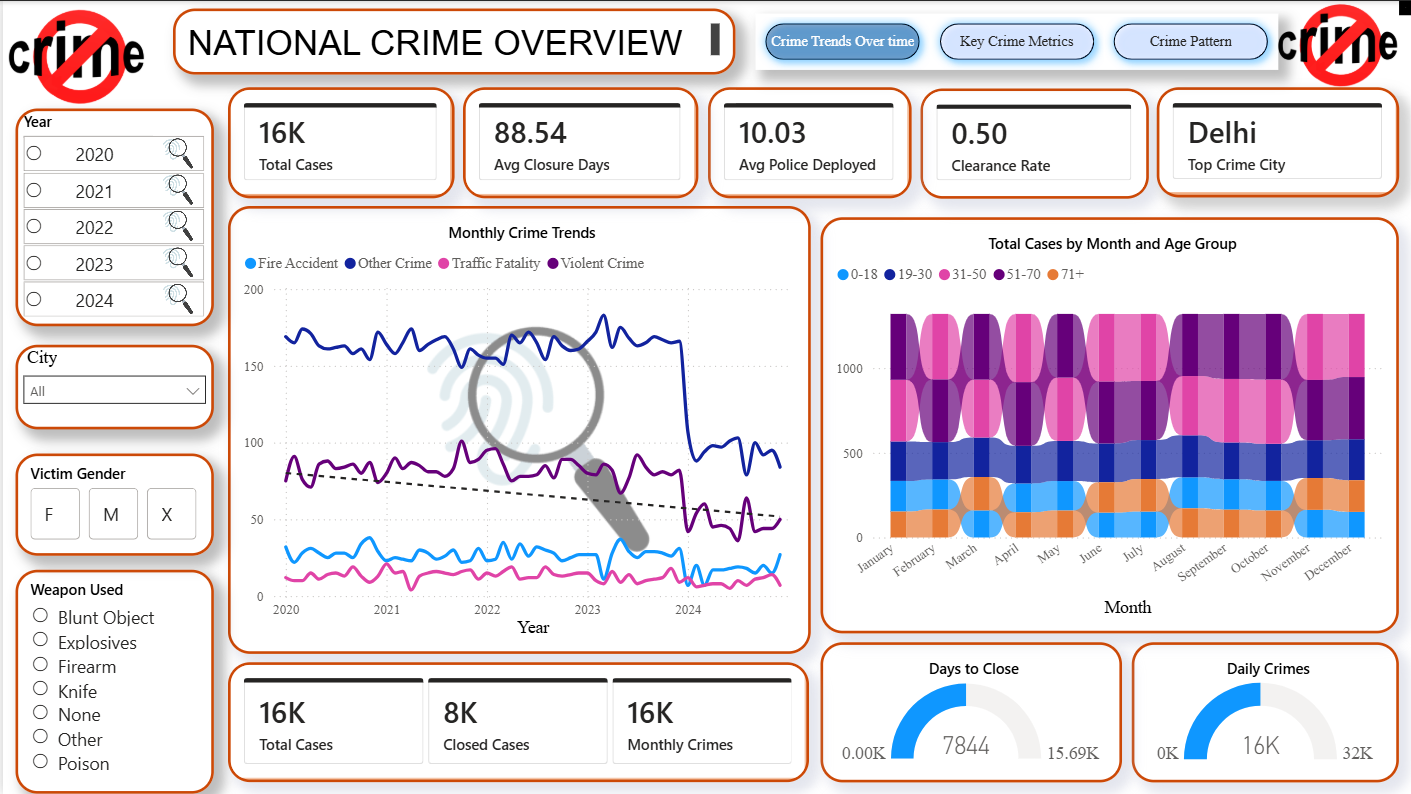

The dashboard page shown, as its layout file describes it:
{"tool":"powerbi","page":{"name":"Crime Trends Over time","canvas":[1280,720],"ordinal":0},"visuals":[{"type":"textbox","box":[1267.4,0,12.8,12.8],"z":0},{"type":"textbox","box":[154.3,6.8,510.4,60.1],"z":1000},{"type":"cardVisual","title":"Total Cases","fields":{"Data":["crime_dataset_india.Total Cases"]},"box":[204.2,78.3,205.3,100.9],"z":2000},{"type":"cardVisual","fields":{"Data":["crime_dataset_india.Clearance Rate"]},"box":[832.5,79.4,207.6,99.8],"z":3000},{"type":"cardVisual","fields":{"Data":["crime_dataset_india.Avg Police Deployed"]},"box":[639.7,78.3,184.9,100.9],"z":4000},{"type":"cardVisual","fields":{"Data":["crime_dataset_india.Avg Closure Days"]},"box":[417.4,78.3,213.2,100.9],"z":5000},{"type":"cardVisual","fields":{"Data":["crime_dataset_india.Top Crime City"]},"box":[1046.9,78.3,220,99.8],"z":6000},{"type":"lineChart","title":"Monthly Crime Trends","fields":{"Y":["crime_dataset_india.Total Cases"],"Series":["crime_dataset_india.Crime Domain"],"Category":["crime_dataset_india.Date of Occurrence.Variation.Date Hierarchy.Year","crime_dataset_india.Date of Occurrence.Variation.Date Hierarchy.Month"]},"box":[204.2,186,528.5,406.1],"z":7000},{"type":"ribbonChart","fields":{"Category":["crime_dataset_india.Date of Occurrence.Variation.Date Hierarchy.Month"],"Series":["crime_dataset_india.Age Group"],"Y":["crime_dataset_india.Total Cases"]},"box":[741.8,196.2,525.1,377.7],"z":8000},{"type":"listSlicer","fields":{"Values":["crime_dataset_india.Date of Occurrence.Variation.Date Hierarchy.Year"]},"box":[11.3,97.5,180.3,197.4],"z":9000},{"type":"pageNavigator","box":[682.8,11.3,474.1,51],"z":10000},{"type":"image","box":[0,2.4,135.4,95.1],"z":11000},{"type":"image","box":[1143.9,0,135.4,79.3],"z":12000},{"type":"advancedSlicerVisual","fields":{"Values":["crime_dataset_india.Victim Gender"]},"box":[11.3,410.6,180.3,93],"z":13000},{"type":"listSlicer","fields":{"Values":["crime_dataset_india.Weapon Used"]},"box":[11.3,516.1,180.3,203],"z":14000},{"type":"slicer","fields":{"Values":["crime_dataset_india.City"]},"box":[11.3,311.9,180.3,77.1],"z":15000},{"type":"gauge","fields":{"Y":["crime_dataset_india.Daily Crimes"]},"box":[1024.2,581.9,242.7,127],"z":16000},{"type":"gauge","title":"Days to Close","fields":{"Y":["CountNonNull(crime_dataset_india.Days to Close)"]},"box":[741.8,581.9,273.3,127],"z":17000},{"type":"cardVisual","fields":{"Data":["crime_dataset_india.Total Cases","crime_dataset_india.Closed Cases","crime_dataset_india.Monthly Crimes"]},"box":[204.2,600,527.4,108.9],"z":18000}]}

Visuals, with their boxes in screenshot pixels (x1, y1, x2, y2), scaled from the page's 1280x720 canvas onto the 1411x794 screenshot:
textbox: left=1397, top=0, right=1410, bottom=14
textbox: left=170, top=7, right=733, bottom=74
"Total Cases" cardVisual: left=225, top=86, right=451, bottom=198
cardVisual - crime_dataset_india.Clearance Rate: left=918, top=88, right=1147, bottom=198
cardVisual - crime_dataset_india.Avg Police Deployed: left=705, top=86, right=909, bottom=198
cardVisual - crime_dataset_india.Avg Closure Days: left=460, top=86, right=695, bottom=198
cardVisual - crime_dataset_india.Top Crime City: left=1154, top=86, right=1397, bottom=196
"Monthly Crime Trends" lineChart: left=225, top=205, right=808, bottom=653
ribbonChart - crime_dataset_india.Date of Occurrence.Variation.Date Hierarchy.Month x crime_dataset_india.Age Group: left=818, top=216, right=1397, bottom=633
listSlicer - crime_dataset_india.Date of Occurrence.Variation.Date Hierarchy.Year: left=12, top=108, right=211, bottom=325
pageNavigator: left=753, top=12, right=1275, bottom=69
image: left=0, top=3, right=149, bottom=108
image: left=1261, top=0, right=1410, bottom=87
advancedSlicerVisual - crime_dataset_india.Victim Gender: left=12, top=453, right=211, bottom=555
listSlicer - crime_dataset_india.Weapon Used: left=12, top=569, right=211, bottom=793
slicer - crime_dataset_india.City: left=12, top=344, right=211, bottom=429
gauge - crime_dataset_india.Daily Crimes: left=1129, top=642, right=1397, bottom=782
"Days to Close" gauge: left=818, top=642, right=1119, bottom=782
cardVisual - crime_dataset_india.Total Cases x crime_dataset_india.Closed Cases: left=225, top=662, right=806, bottom=782
